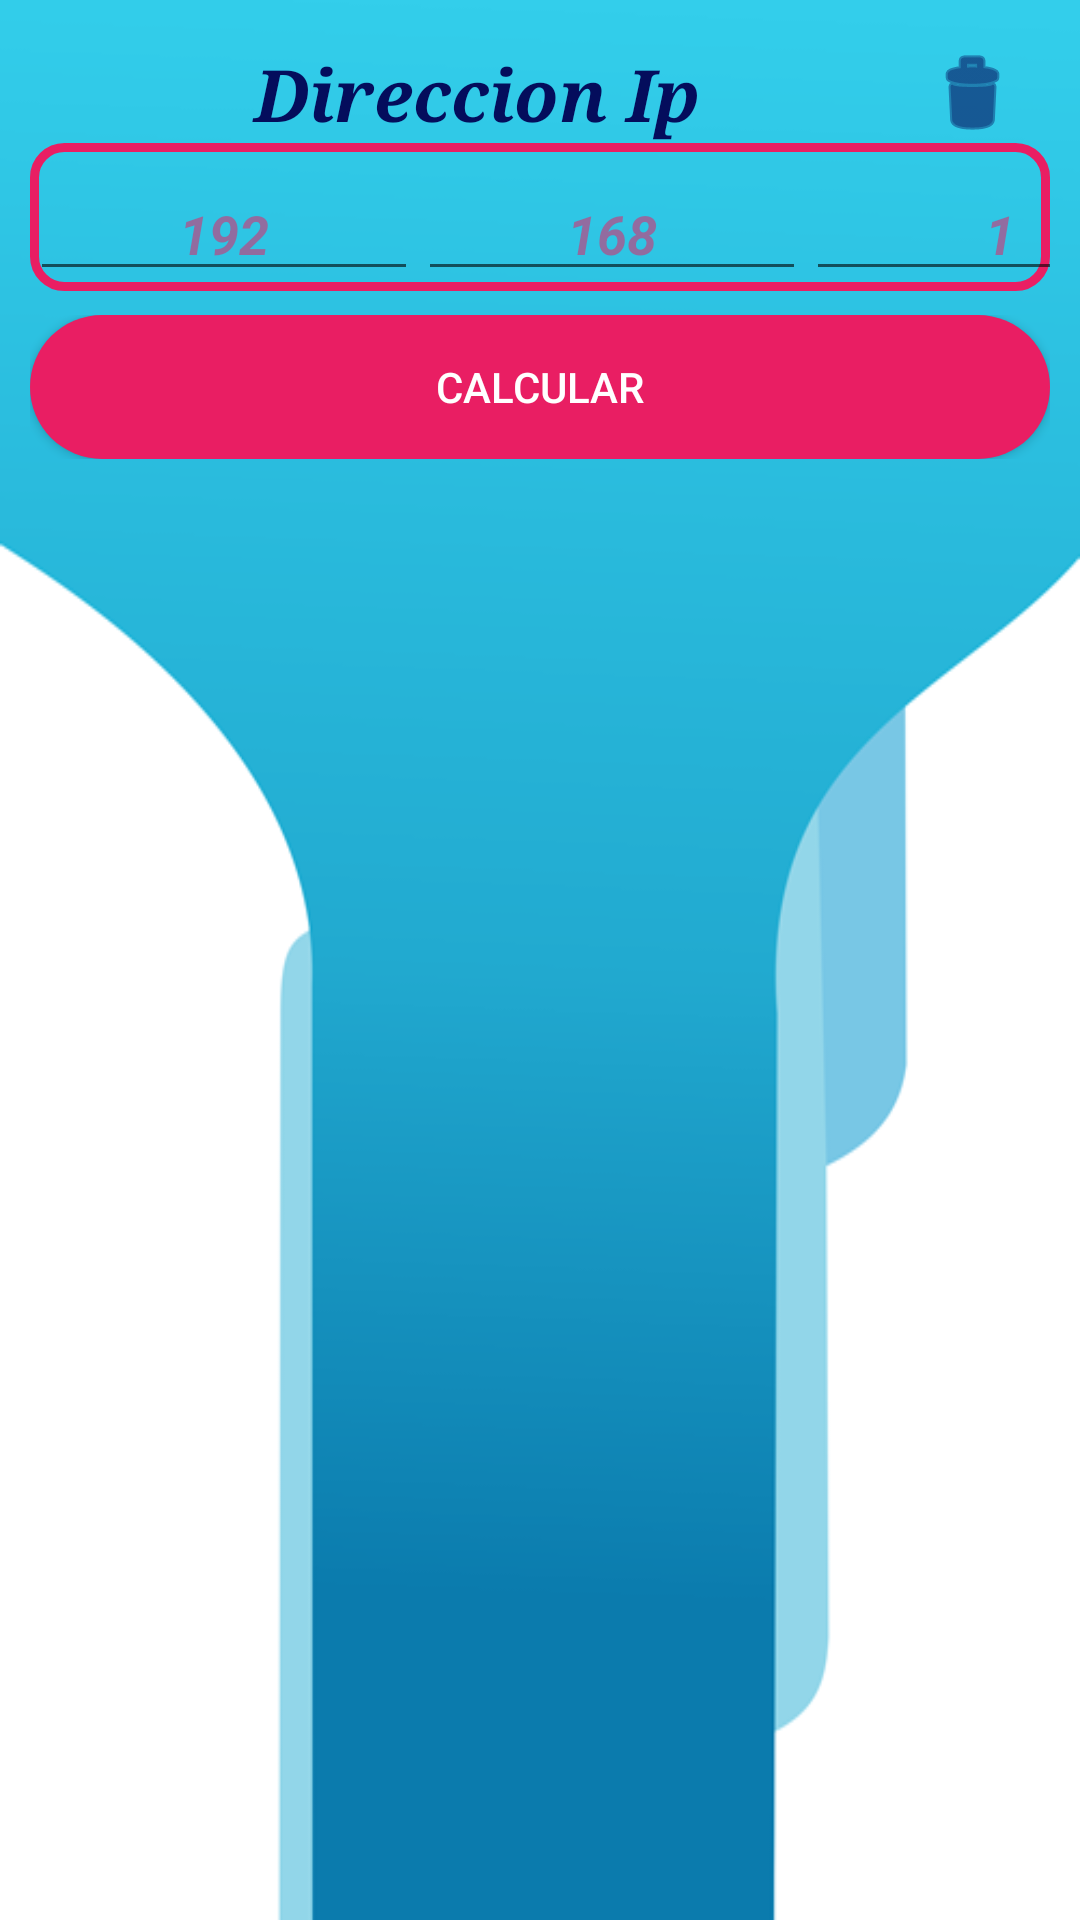

Icons on this 1080x1920 Android screen, each with its box as [x1, y1, x2, y2]:
delete: [945, 55, 1000, 130]
